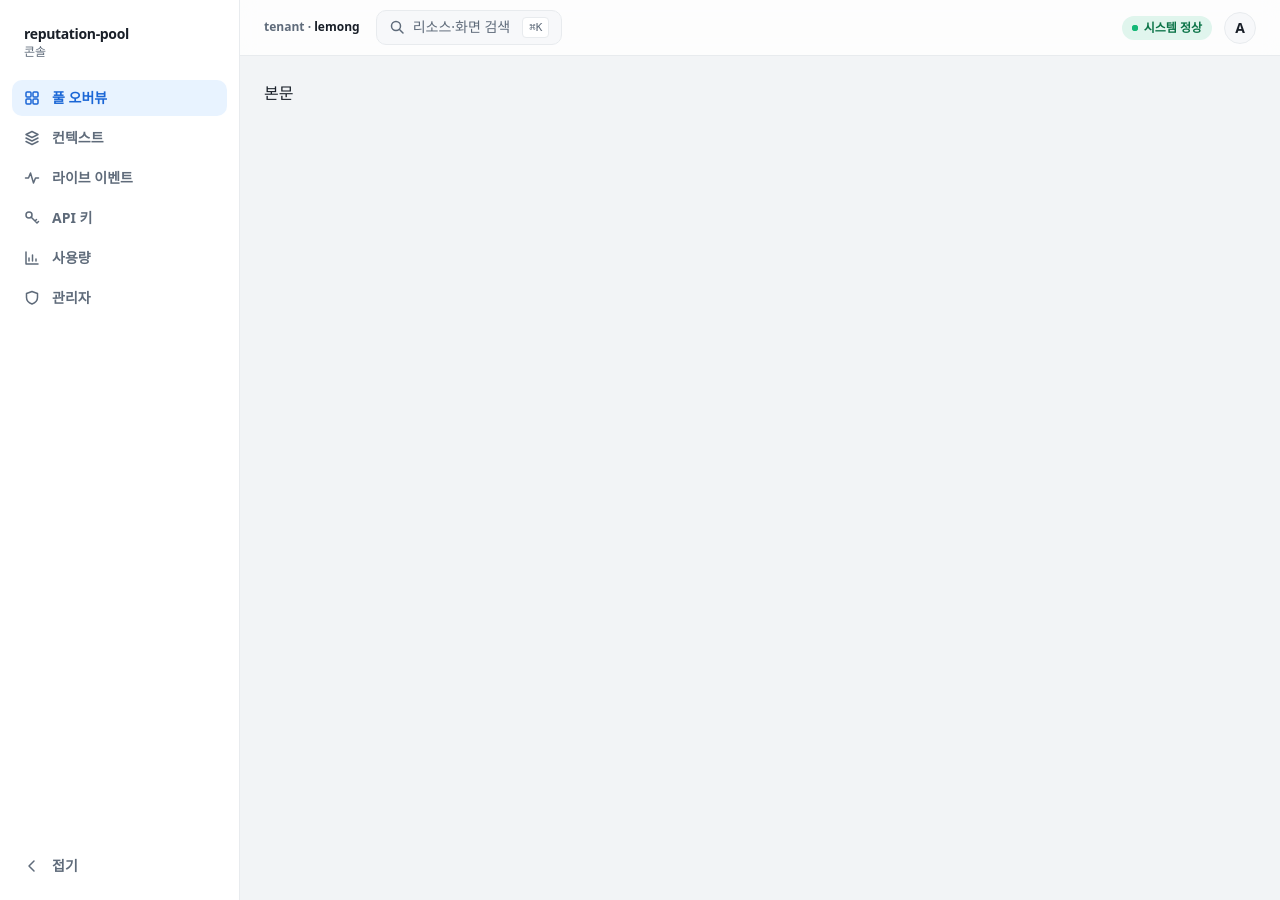
Test case: AppShell — 사이드바 접힘 › 토글로 접고 펼치며 localStorage 에 상태를 저장한다
Step 1. Click the button with aria-label "사이드바 접기" → (120, 866), box [12,848,227,884]
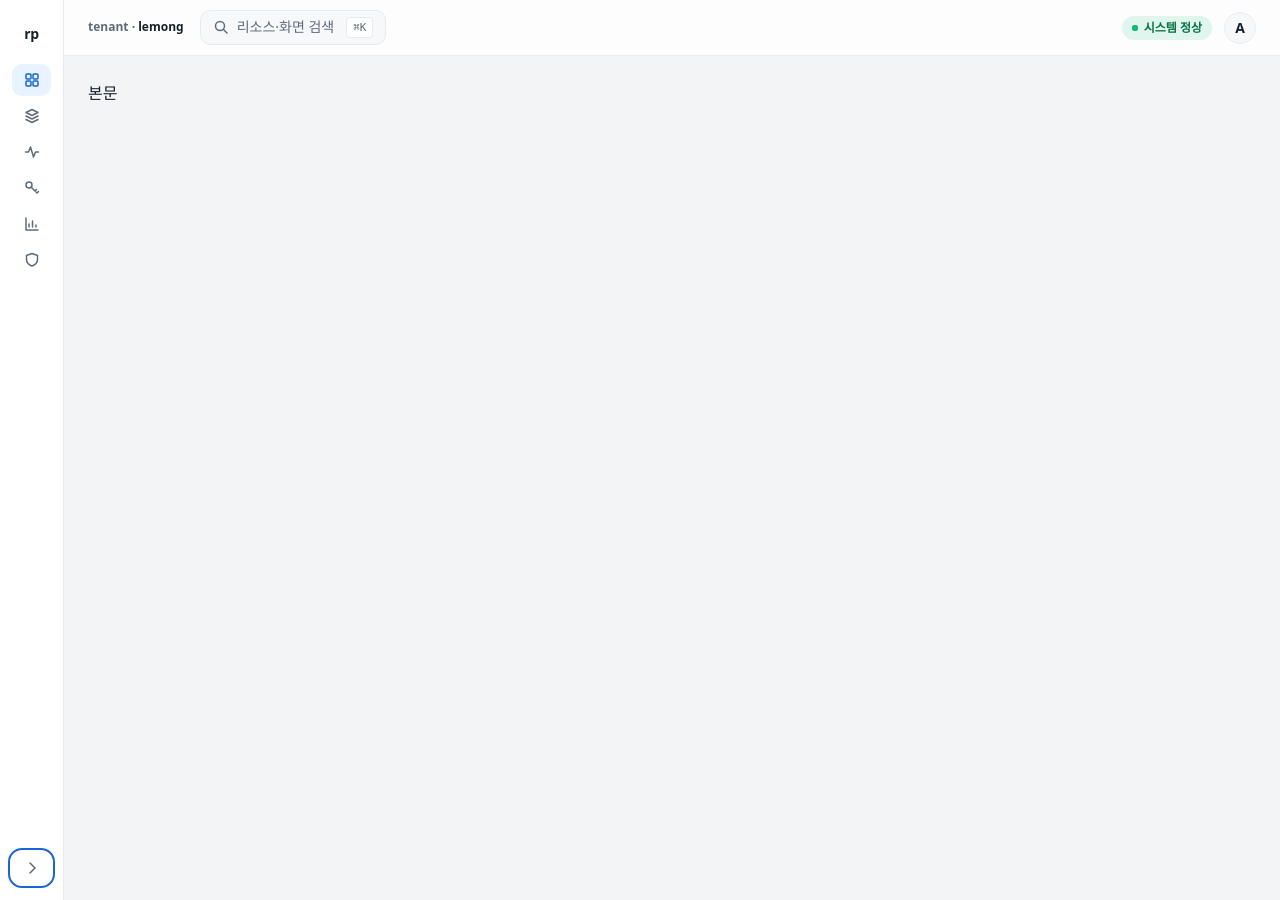
expect the button named "사이드바 펼치기" is collapsed: met
Step 2. Click the button named "사이드바 펼치기" → (32, 868), box [12,852,51,884]
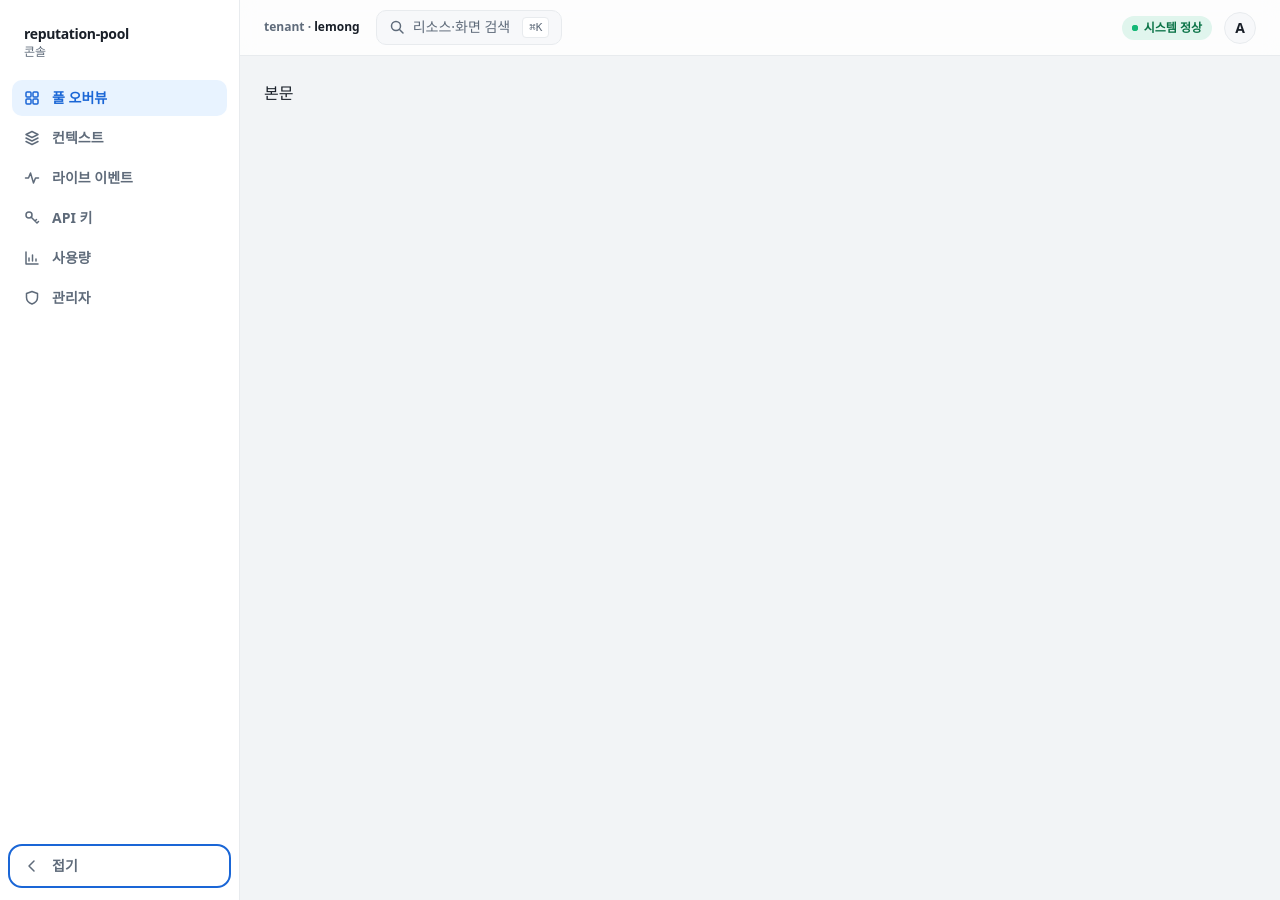
expect the button with aria-label "사이드바 접기" is expanded: met, box [12,848,227,884]
